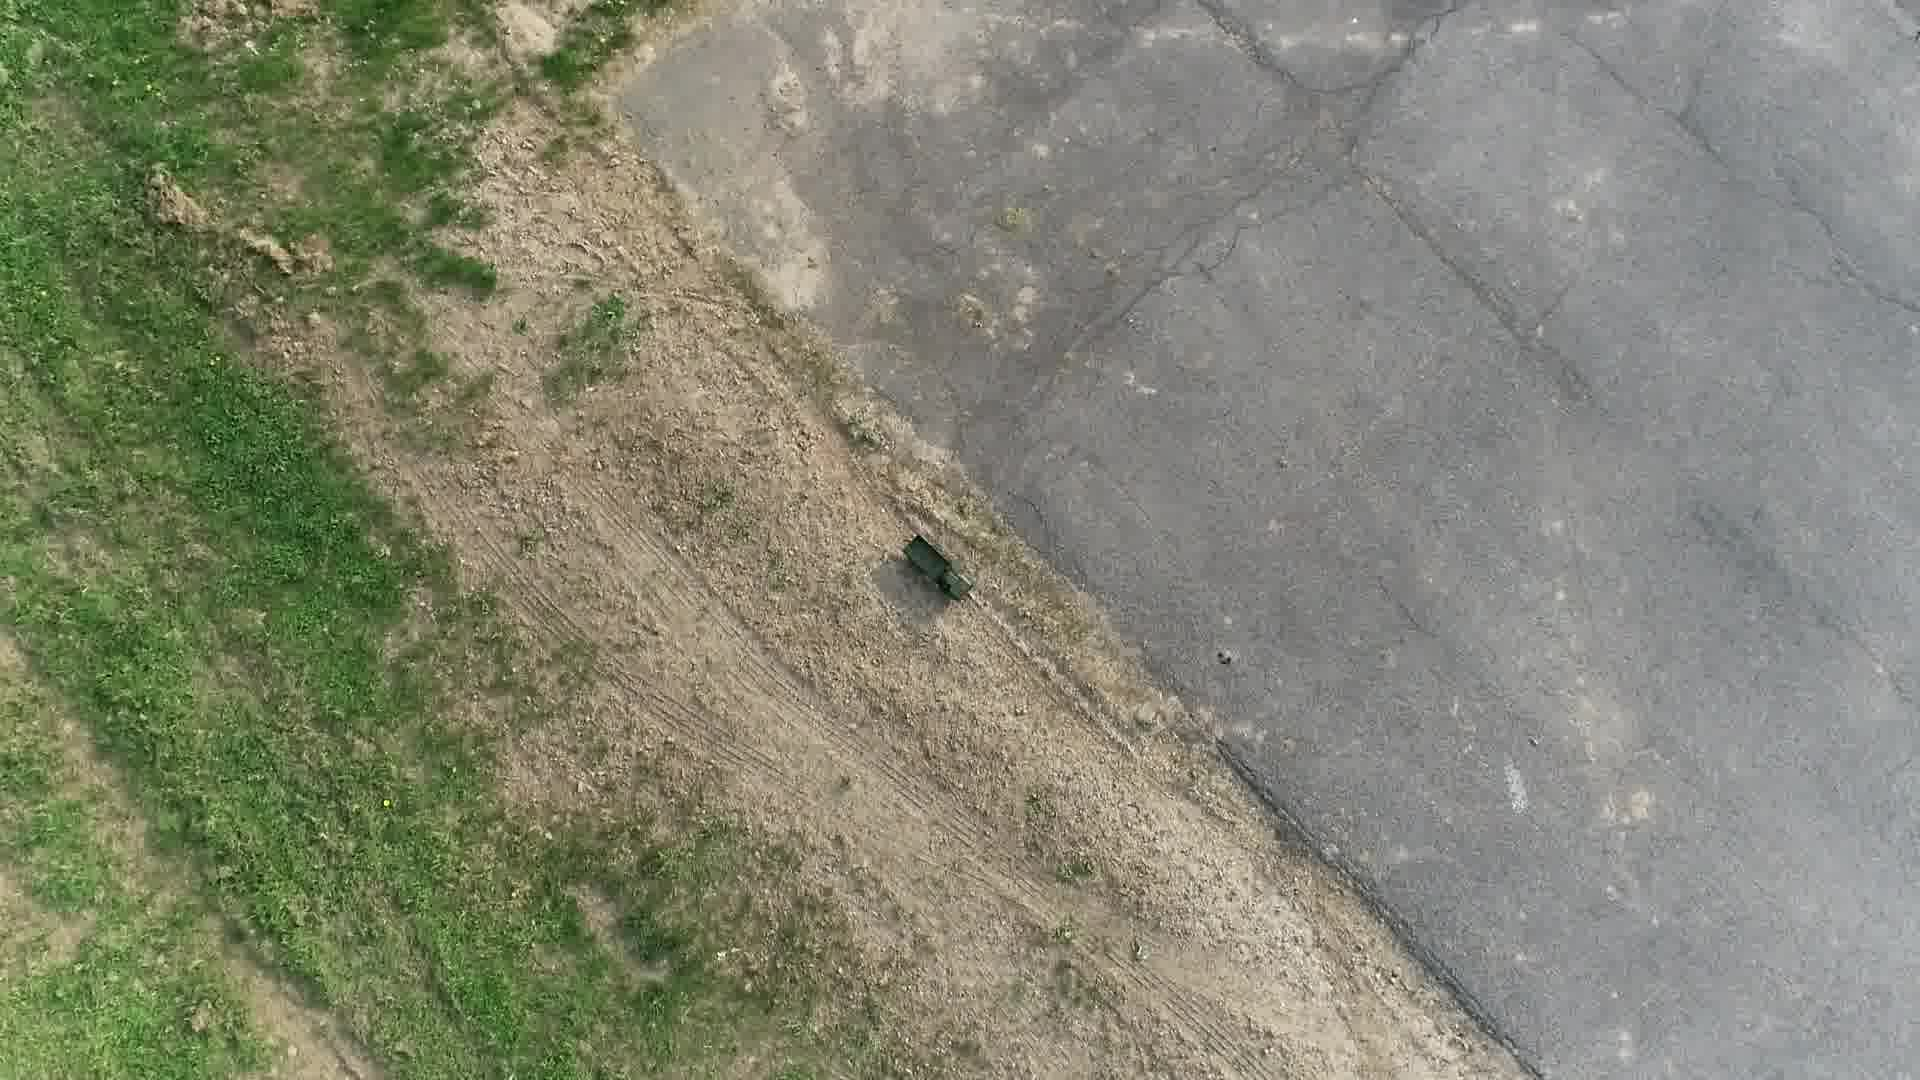transporter9: (897, 533, 977, 603)
